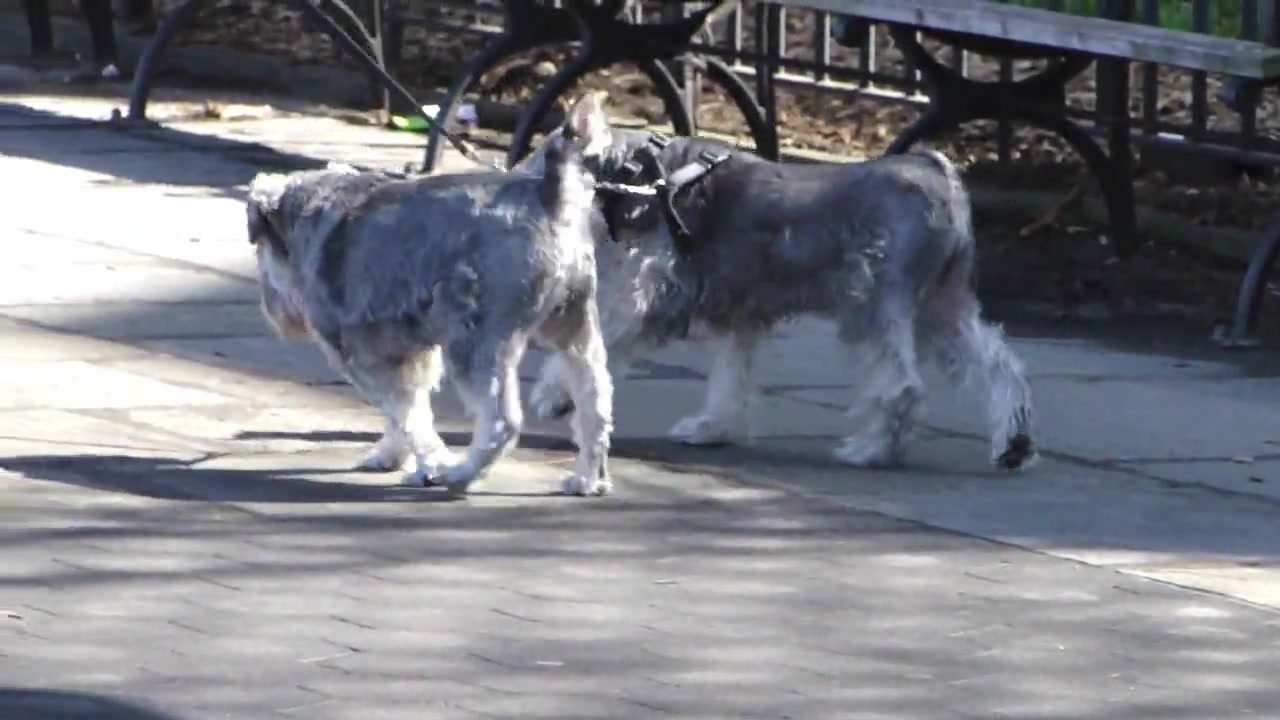dog: (247, 131, 615, 499)
